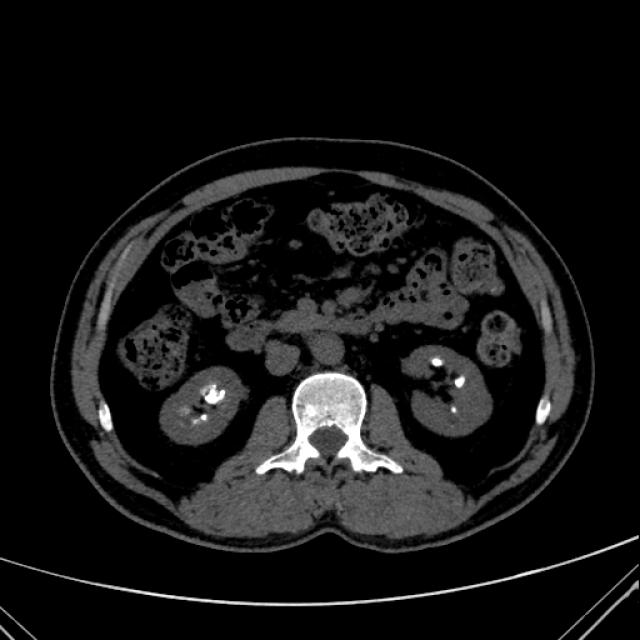kidneystone: (202, 384, 225, 404), (431, 358, 444, 368), (454, 376, 464, 388)
